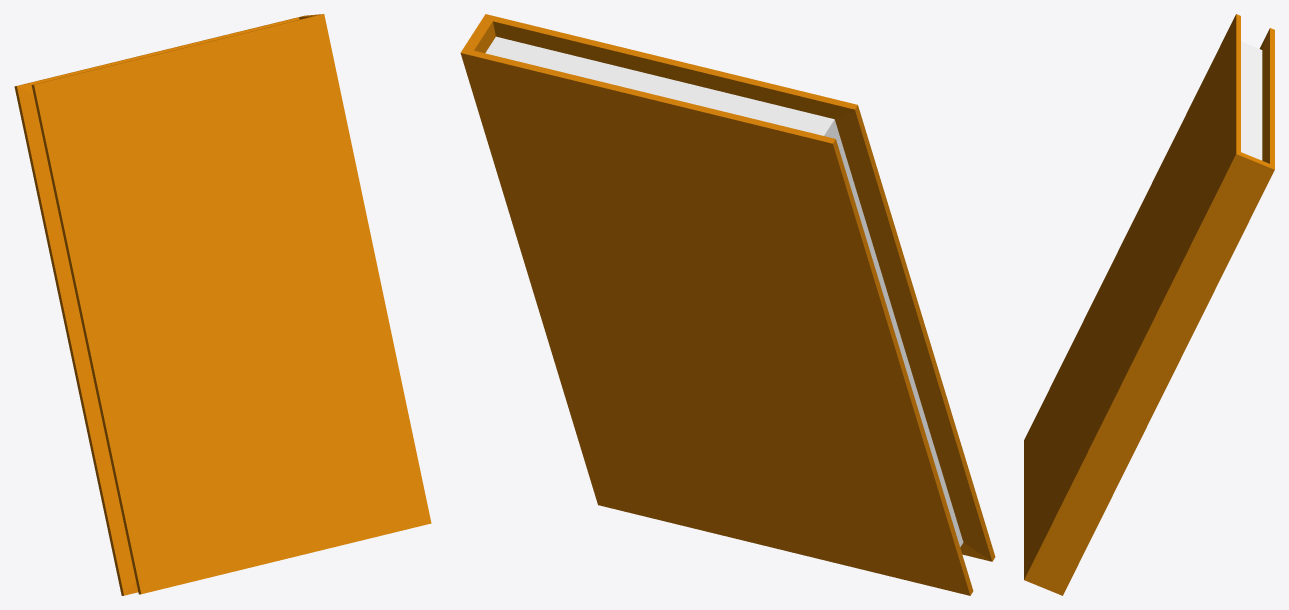
The model's file is LibroNaranja.fbx.
3 views of the same model, side by side, from view 1: azimuth 30°, elevation 25°; view 2: azimuth 150°, elevation 25°; view 3: azimuth 270°, elevation 25° (orthographic). The views are drawn at different scales.
Visible parts, largest first — view 1: Cubo.1927; view 2: Cubo.1927; view 3: Cubo.1927.
Part boxes in pixels (left/top/right/bottom): Cubo.1927: left=14, top=14, right=431, bottom=595; Cubo.1927: left=460, top=14, right=995, bottom=595; Cubo.1927: left=1024, top=14, right=1274, bottom=595.
Bounding box in the file's own units: 17.59 × 25.88 × 13.31.
